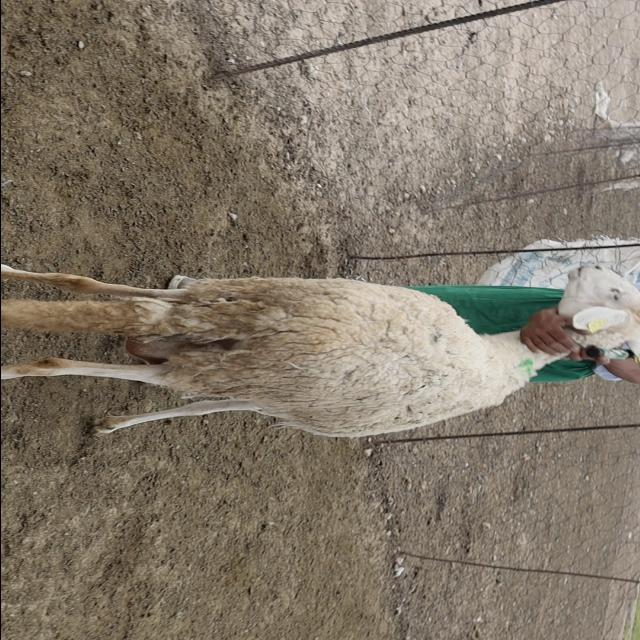Score_2: (1, 265, 640, 437)
